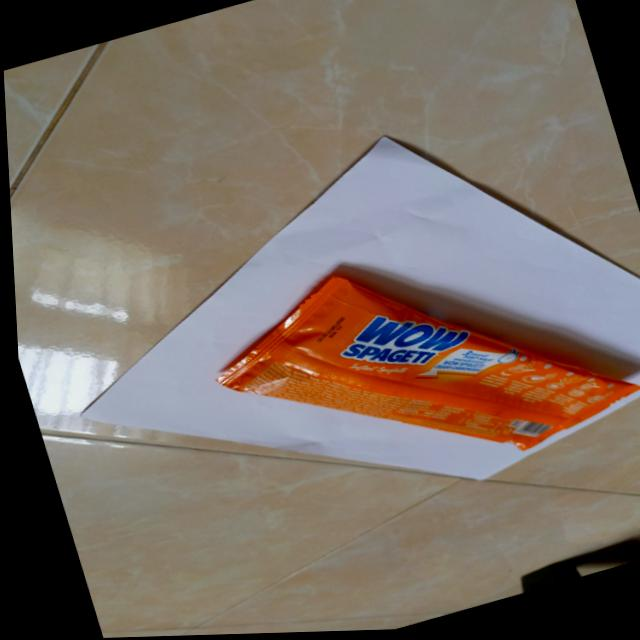indomie-tori-miso: (183, 203, 640, 532)
